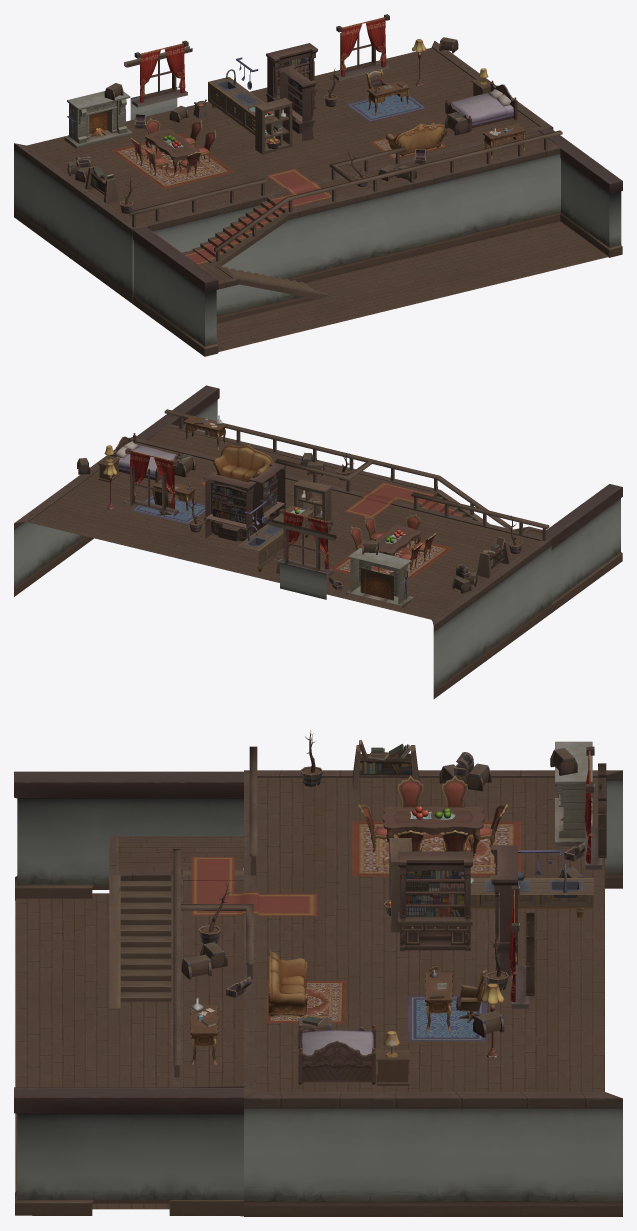
File: scene_shinei_bulaite01.FBX
3 views of the same model, one above another, from view 1: azimuth 30°, elevation 25°; view 2: azimuth 150°, elevation 25°; view 3: azimuth 270°, elevation 25° (orthographic). The views are drawn at different scales.
Visible parts, largest first — view 1: scene_shinei_bulaite01; view 2: scene_shinei_bulaite01; view 3: scene_shinei_bulaite01.
Part boxes in pixels (<box>): scene_shinei_bulaite01: <box>14,14,622,356</box>; scene_shinei_bulaite01: <box>14,385,622,698</box>; scene_shinei_bulaite01: <box>14,730,622,1216</box>.
Size of the model in its own units: 2733 by 921 by 2144.
